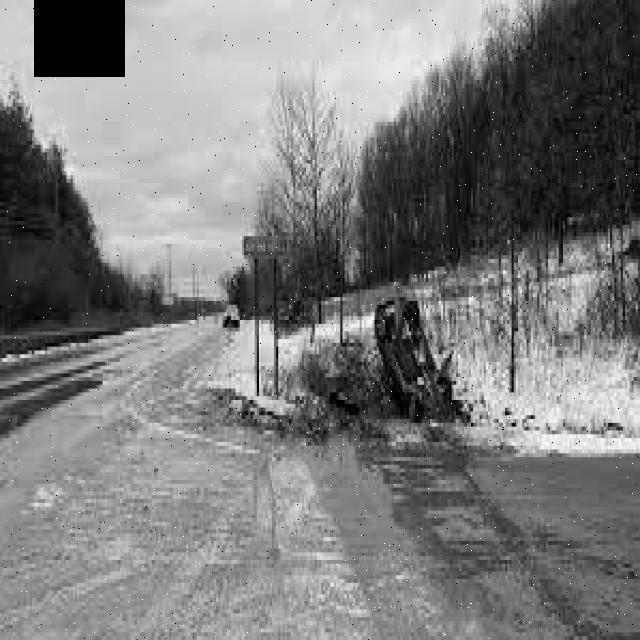accident: (369, 288, 457, 422)
